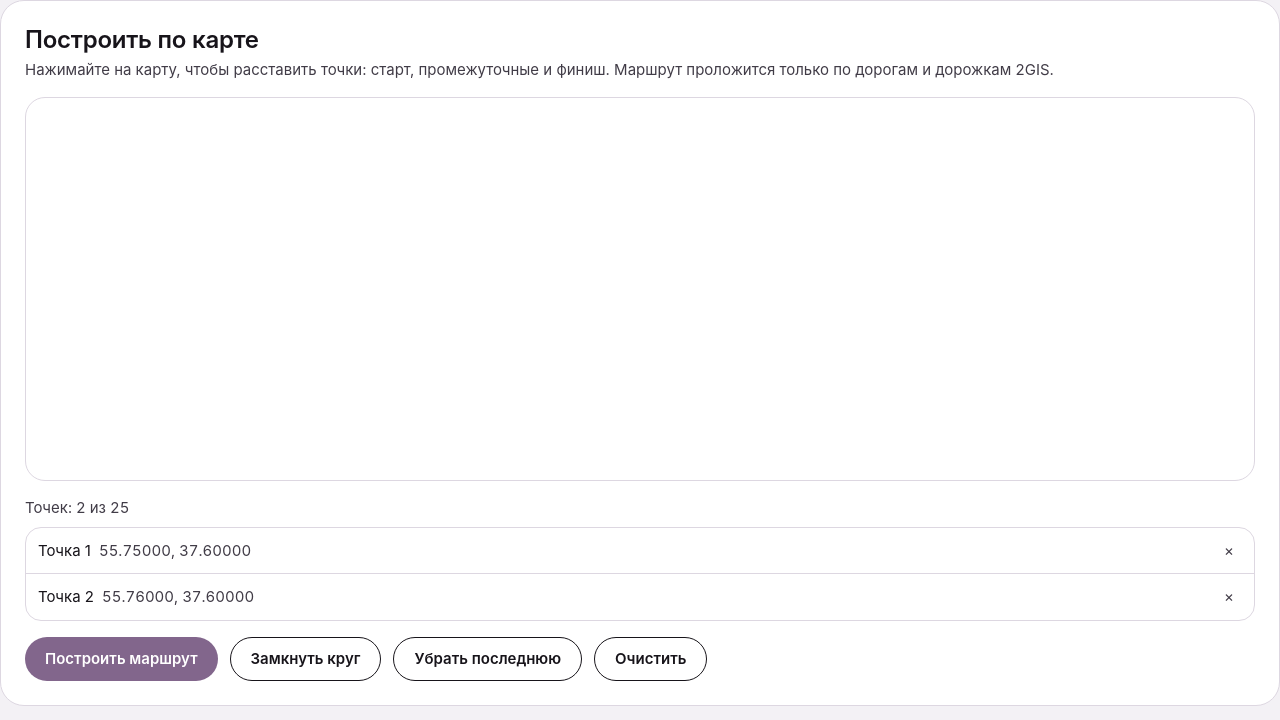
Test: RouteBuilder › explains a route_not_buildable answer instead of drawing anything
Click the button "Построить маршрут" at (121, 659), box [25,637,218,681]
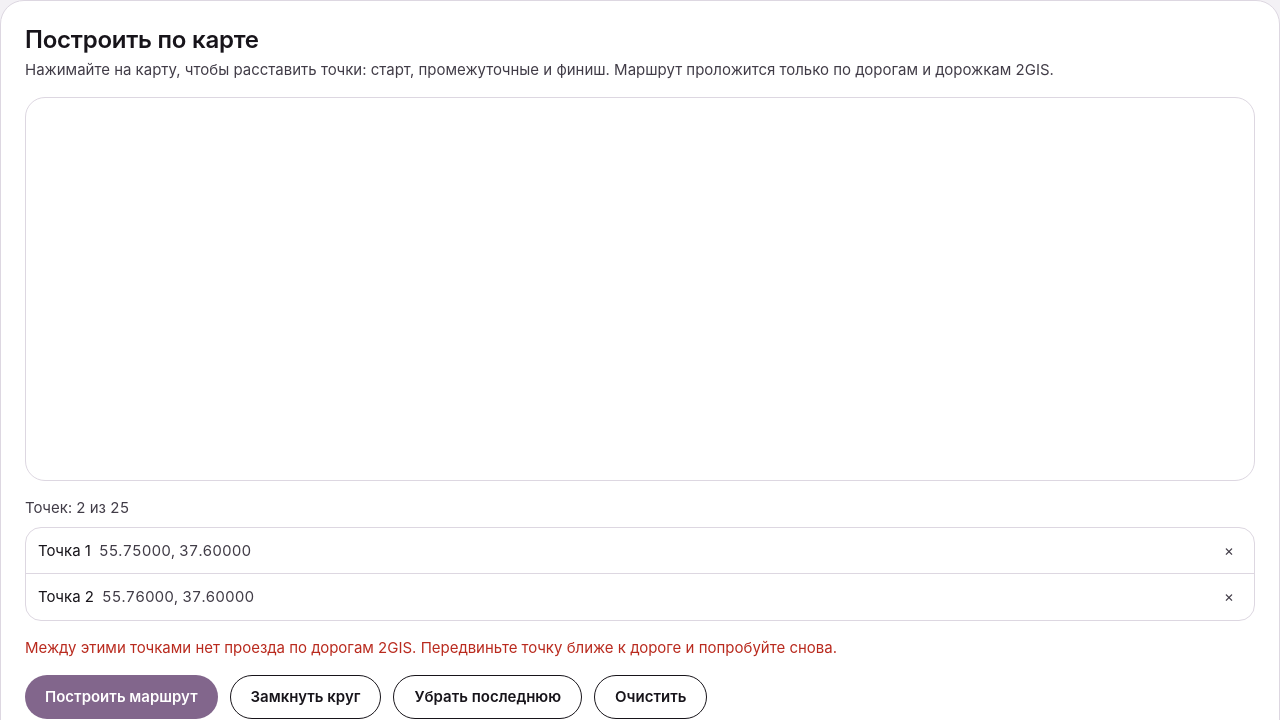
Check: the text "Между этими точками нет проезда" is shown, box [25,638,837,657]
